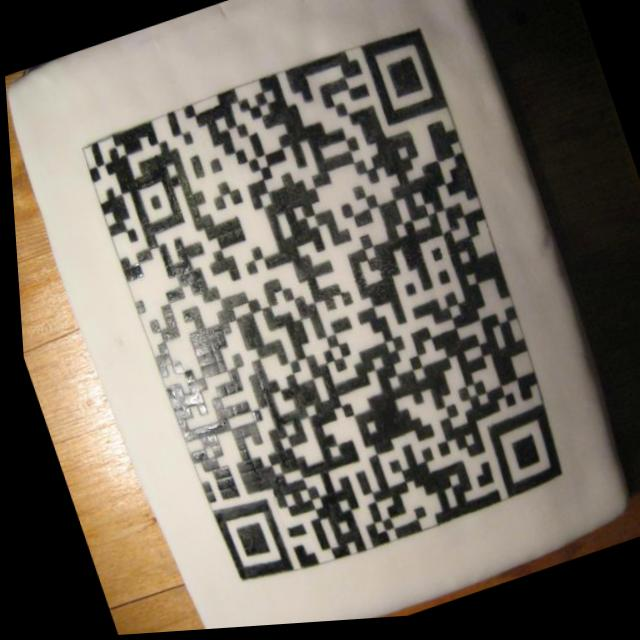qrcode: (72, 25, 572, 603)
